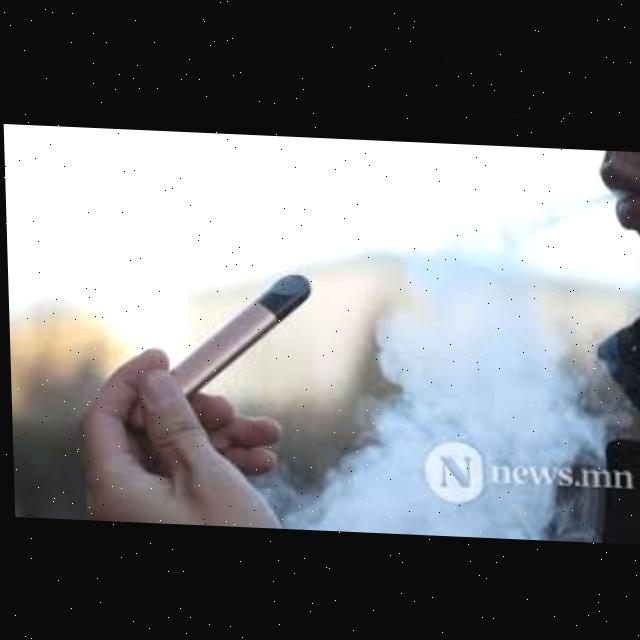vape: (122, 264, 314, 433)
